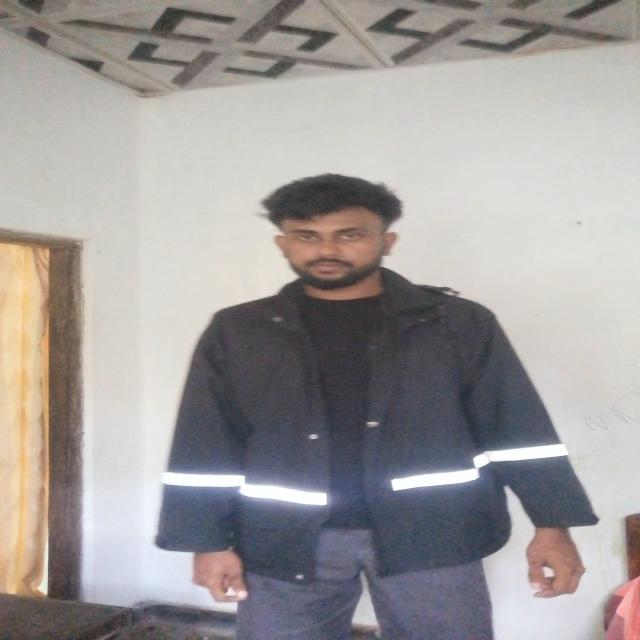Jacket_Wearer: (152, 271, 612, 572)
